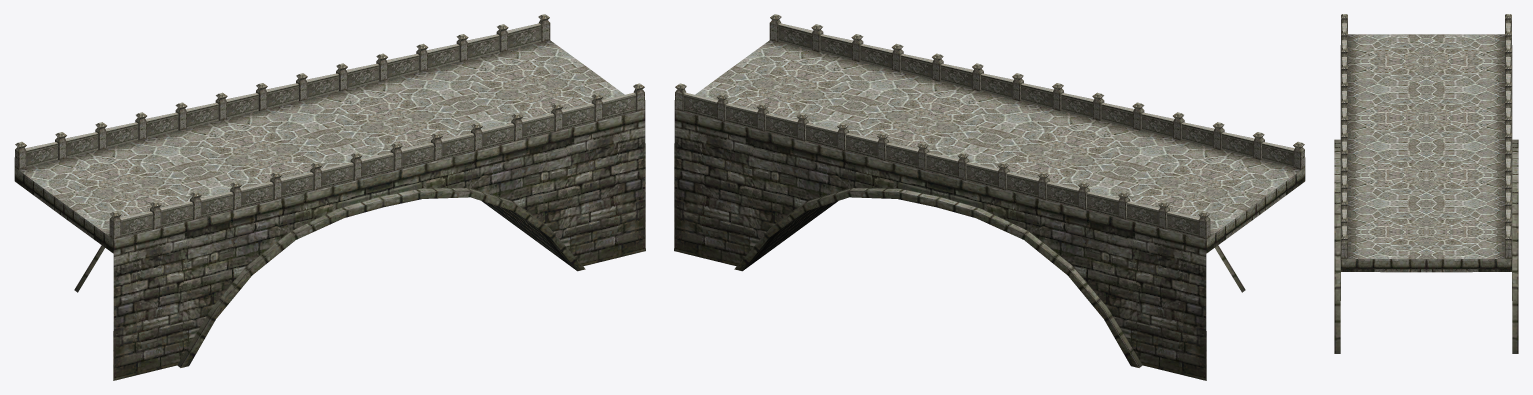
File: a1-022-10m-bridge.glb
3 renders of one model, left to right at view 1: azimuth 30°, elevation 25°; view 2: azimuth 150°, elevation 25°; view 3: azimuth 270°, elevation 25°, orthographic. The views are drawn at different scales.
Visible parts, largest first — view 1: a1-022-10m-bridge; view 2: a1-022-10m-bridge; view 3: a1-022-10m-bridge.
Part boxes in pixels (x1=…): a1-022-10m-bridge: x1=14, y1=14, x2=645, y2=380; a1-022-10m-bridge: x1=674, y1=14, x2=1305, y2=380; a1-022-10m-bridge: x1=1334, y1=14, x2=1518, y2=353.
Bounding box in the file's own units: 39.46 × 11.76 × 13.69.
1 material, 1 textured.
